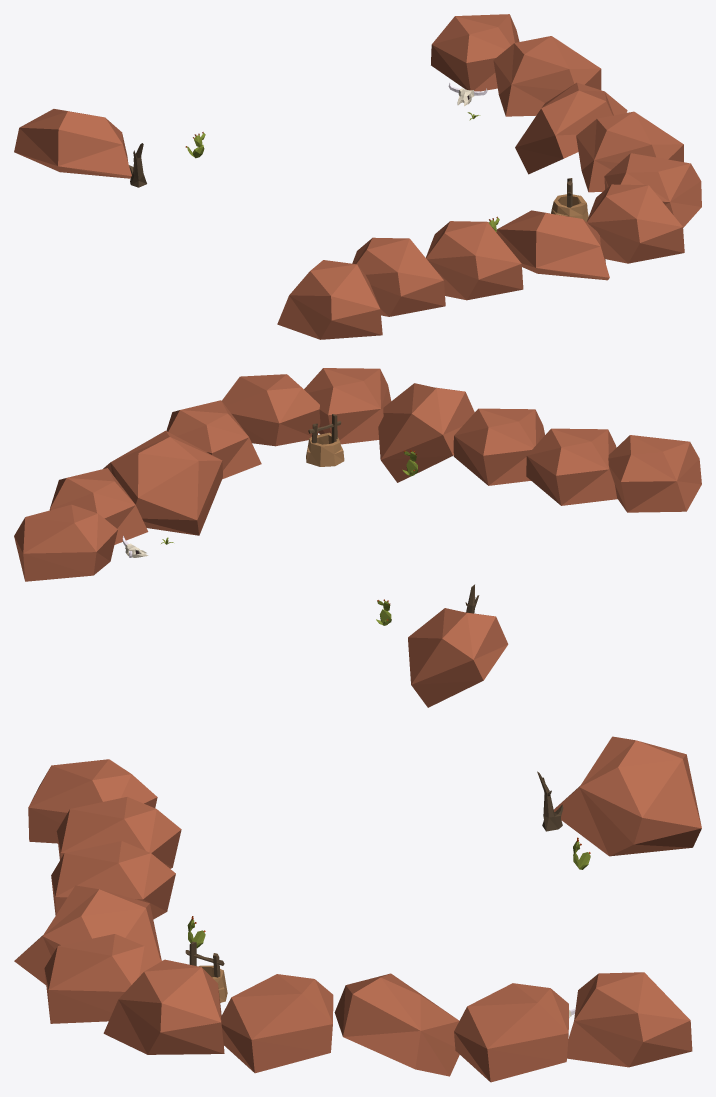
Rendered from Obstracle2.fbx.
The picture shows the model from 3 angles, top to bottom: view 1: azimuth 30°, elevation 25°; view 2: azimuth 150°, elevation 25°; view 3: azimuth 270°, elevation 25°; orthographic projection. The views are drawn at different scales.
Parts seen in each view (by area): view 1: Flat_Rock_01__19_, Flat_Rock_01__7_, Flat_Rock_01__18_, Flat_Rock_01__16_, Flat_Rock_01__5_, Flat_Rock_01__4_, Flat_Rock_01__17_, Flat_Rock_01__6_, Flat_Rock_01__13_, Flat_Rock_01__3_, Flat_Rock_01__15_, Flat_Well_01; view 2: Flat_Rock_01__6_, Flat_Rock_01__7_, Flat_Rock_01__4_, Flat_Rock_01__13_, Flat_Rock_01__19_, Flat_Rock_01__17_, Flat_Rock_01__16_, Flat_Rock_01__15_, Flat_Rock_01__18_, Flat_Rock_01__3_, Flat_Rock_01__5_, Flat_Well_01; view 3: Flat_Rock_01__7_, Flat_Rock_01__13_, Flat_Rock_01__15_, Flat_Rock_01__5_, Flat_Rock_01__3_, Flat_Rock_01__6_, Flat_Rock_01__18_, Flat_Rock_01__4_, Flat_Rock_01__16_, Flat_Rock_01__19_, Flat_Rock_01__17_, Flat_Well_01 (+1 smaller).
Part boxes in pixels (box(x1,y1,x2,y2)): Flat_Rock_01__19_: box(277, 260, 382, 339); Flat_Rock_01__7_: box(14, 109, 131, 178); Flat_Rock_01__18_: box(586, 184, 684, 263); Flat_Rock_01__16_: box(426, 221, 523, 300); Flat_Rock_01__5_: box(493, 36, 601, 116); Flat_Rock_01__4_: box(496, 210, 609, 280); Flat_Rock_01__17_: box(352, 237, 445, 316); Flat_Rock_01__6_: box(515, 82, 627, 174); Flat_Rock_01__13_: box(431, 14, 519, 91); Flat_Rock_01__3_: box(576, 111, 683, 192); Flat_Rock_01__15_: box(604, 153, 701, 227); Flat_Well_01: box(551, 178, 588, 221); Flat_Rock_01__6_: box(103, 430, 222, 535); Flat_Rock_01__7_: box(408, 608, 508, 707); Flat_Rock_01__4_: box(378, 383, 474, 482); Flat_Rock_01__13_: box(14, 504, 117, 581); Flat_Rock_01__19_: box(608, 435, 701, 512); Flat_Rock_01__17_: box(526, 428, 617, 505); Flat_Rock_01__16_: box(453, 408, 544, 485); Flat_Rock_01__15_: box(222, 374, 320, 446); Flat_Rock_01__18_: box(304, 368, 391, 444); Flat_Rock_01__3_: box(166, 400, 261, 479); Flat_Rock_01__5_: box(49, 468, 148, 544); Flat_Well_01: box(306, 414, 344, 466); Flat_Rock_01__7_: box(553, 736, 701, 856); Flat_Rock_01__13_: box(567, 972, 692, 1067); Flat_Rock_01__15_: box(103, 959, 224, 1054); Flat_Rock_01__5_: box(454, 983, 568, 1082); Flat_Rock_01__3_: box(221, 974, 333, 1073); Flat_Rock_01__6_: box(334, 973, 459, 1076); Flat_Rock_01__18_: box(44, 934, 162, 1023); Flat_Rock_01__4_: box(14, 885, 161, 984); Flat_Rock_01__16_: box(51, 841, 175, 919); Flat_Rock_01__19_: box(28, 759, 157, 843); Flat_Rock_01__17_: box(56, 797, 181, 868); Flat_Well_01: box(185, 941, 227, 1002).
Size of the model in its own units: 13758 by 2119 by 13432.
1 material, 1 textured.
